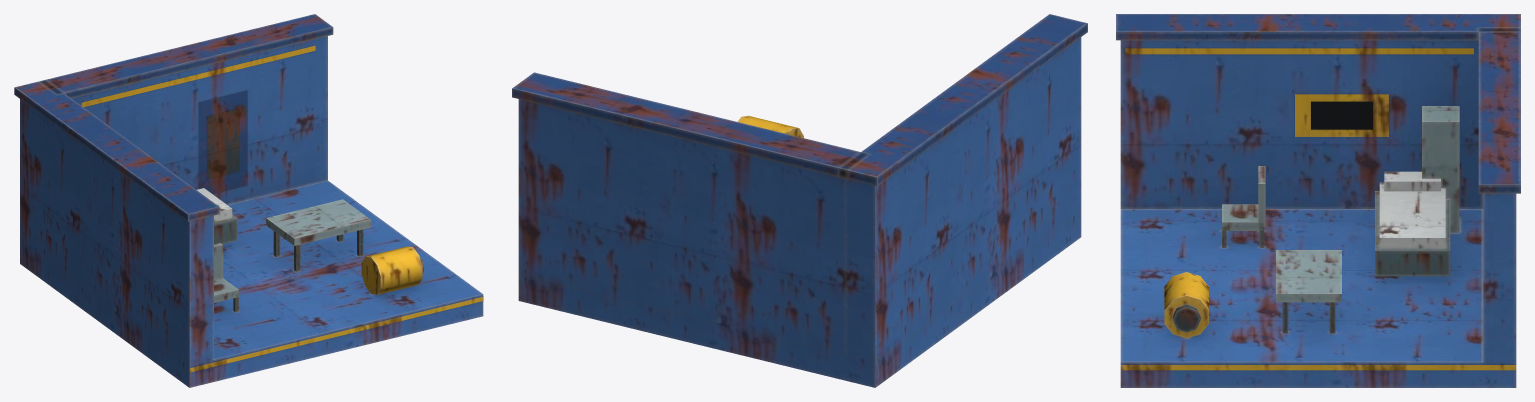
Rendered from habitat.glb.
3 views of the same model, side by side, from view 1: azimuth 30°, elevation 25°; view 2: azimuth 150°, elevation 25°; view 3: azimuth 270°, elevation 25° (orthographic). The views are drawn at different scales.
Visible parts, largest first — view 1: te_habitat; view 2: te_habitat; view 3: te_habitat.
Part boxes in pixels (x1,y1,x2,y2): te_habitat: (14,14,483,387); te_habitat: (512,14,1087,387); te_habitat: (1116,14,1520,387).
Size of the model in its own units: 0.86 by 0.48 by 0.86.
Materials: 1 (1 with a texture image).
